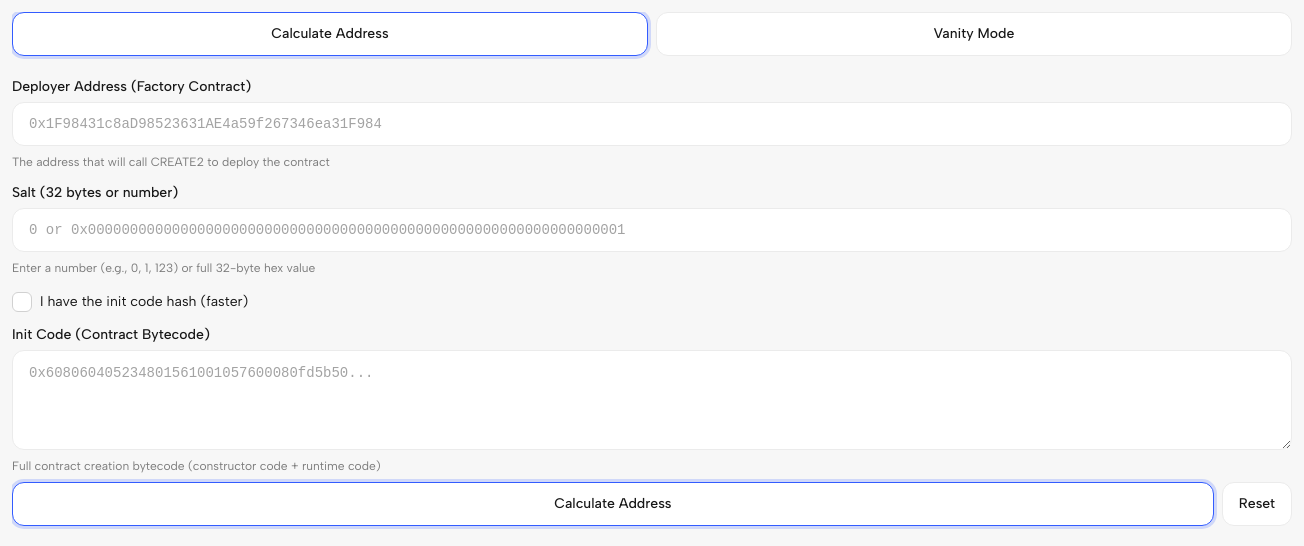
it: Create2AddressPredictorTool › shows vanity prefix input when vanity mode is selected
Click the button "Vanity Mode".
click(974, 34)  # box x1=656 y1=12 x2=1292 y2=56
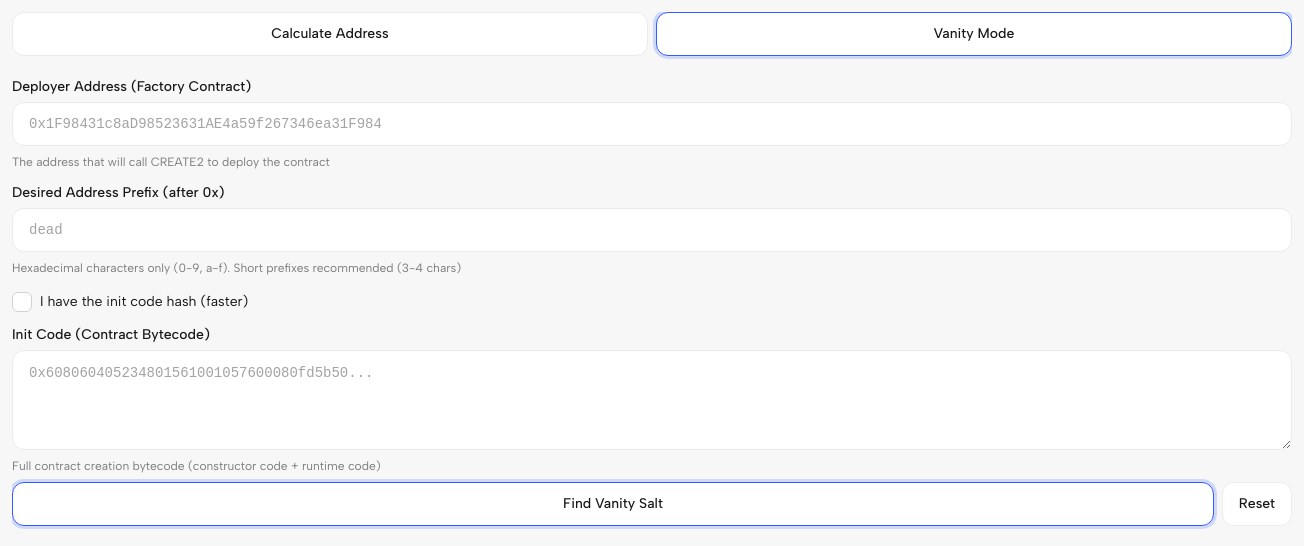
Expected: the text "Desired Address Prefix (after 0x)" is shown, x1=12 y1=184 x2=225 y2=201
